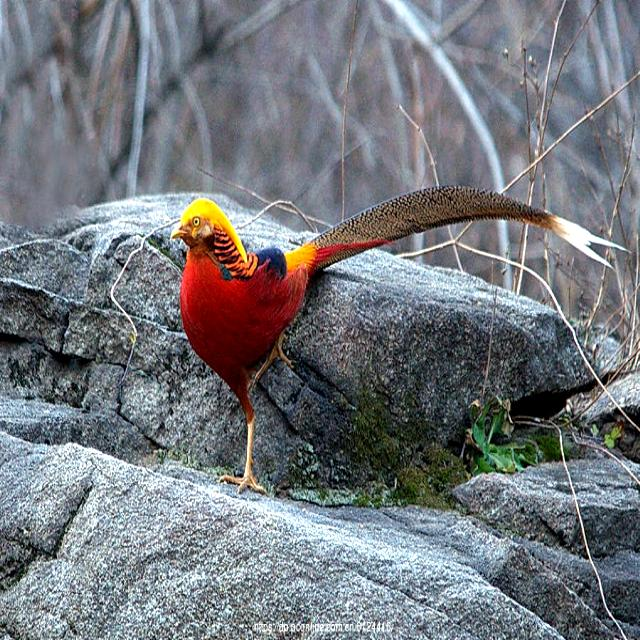Chrysolophus pictus feather: (305, 186, 599, 249)
